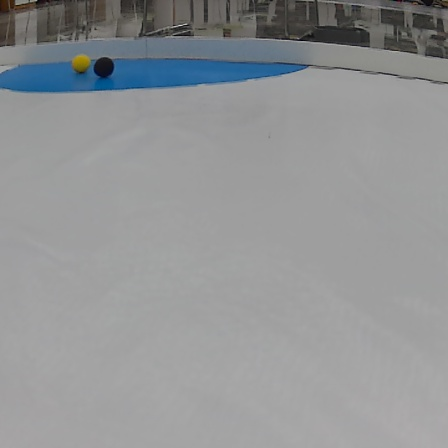black: (94, 56, 116, 78)
blue_base: (0, 60, 310, 94)
yellow: (71, 54, 92, 75)
